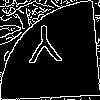Y: (25, 24, 64, 71)
